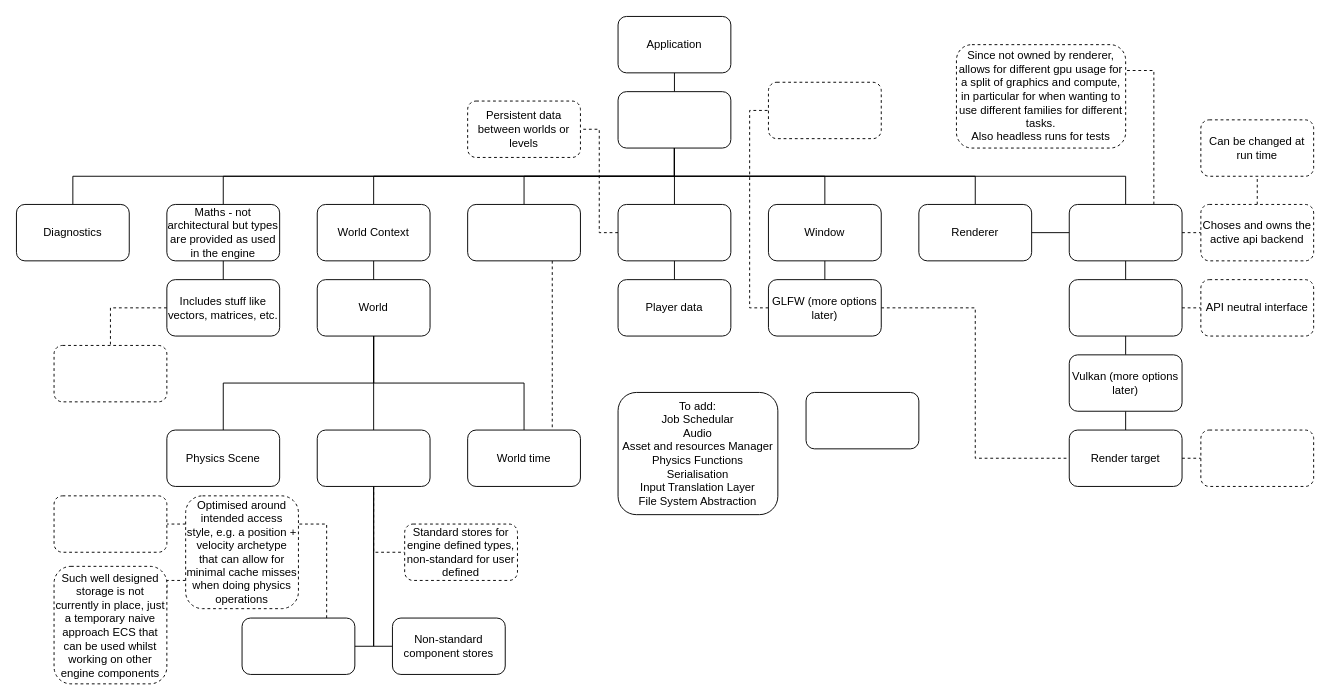
The diagram is 1330 pixels wide and 700 high, and some of its shapes have lost their labels. Each missing label, with the centre of its shape:
"Backend" belongs at (1125,307).
"Context" belongs at (1125,232).
"Created by Window" belongs at (1257,457).
"Decided at compile time" belongs at (824,110).
"ECS" belongs at (373,457).
"Engine" belongs at (674,119).
"Engine Time" belongs at (523,232).
"Game Instance" belongs at (674,232).
"Maybe SIMD backed later in suitable parts, e.g. mat4" belongs at (110,373).
"Standard component stores" belongs at (298,645).
"Unimplemented: Physics Scene Game Instance" belongs at (862,420).
"Which would further lend well to simd stuff in hot paths in the ECS" belongs at (110,523).
